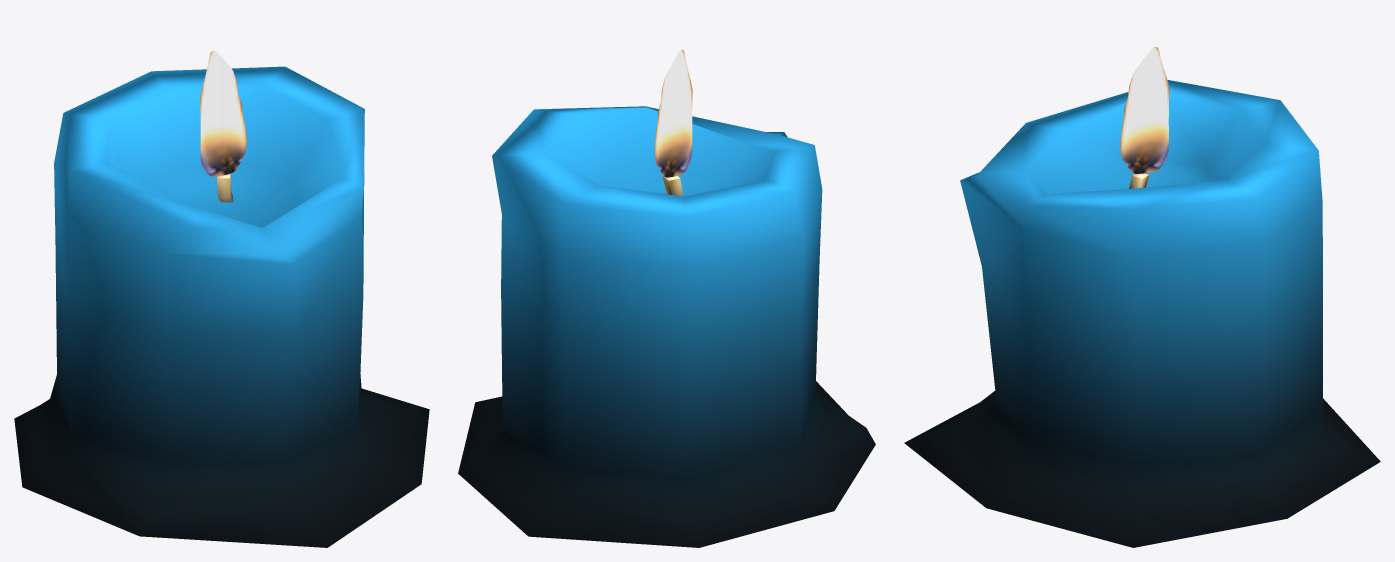
Rendered from CandleShapeC.004.glb.
The picture shows the model from 3 angles, left to right: view 1: azimuth 30°, elevation 25°; view 2: azimuth 150°, elevation 25°; view 3: azimuth 270°, elevation 25°; orthographic projection.
Visible parts, largest first — view 1: CandleShapeC.004; view 2: CandleShapeC.004; view 3: CandleShapeC.004.
Boxes of the visible parts, x1,y1,x2,y2 form: CandleShapeC.004: (14,50,429,547); CandleShapeC.004: (458,49,875,547); CandleShapeC.004: (904,46,1380,547).
Bounding box in the file's own units: 0.1734 × 0.1799 × 0.1889.
Materials: 2 (2 with a texture image).
